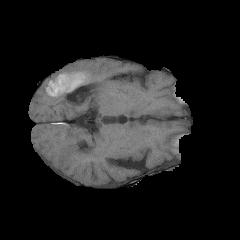glioma: (46, 73, 109, 167)
